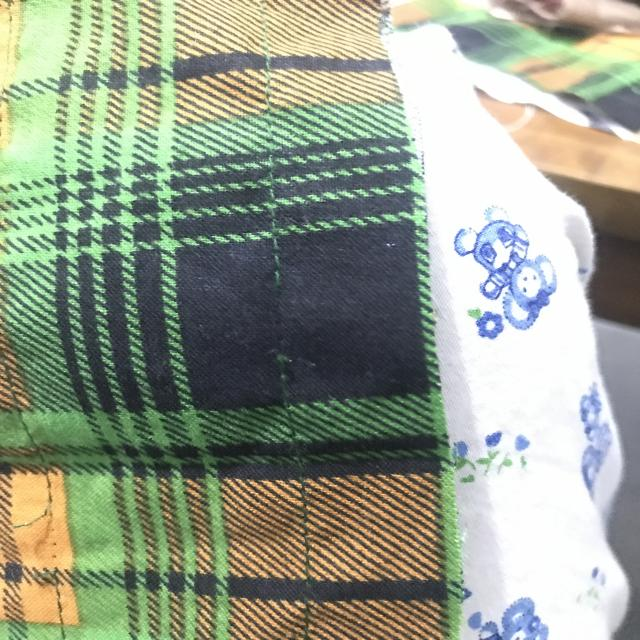broken: (256, 260, 324, 382)
